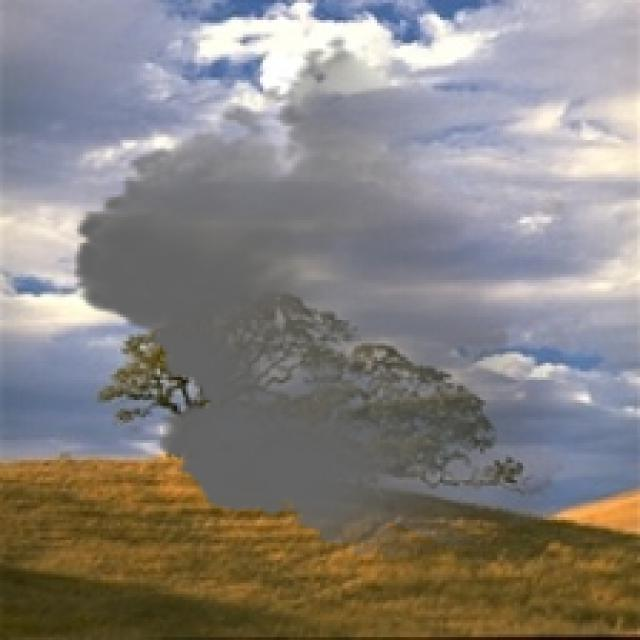Smoke: (54, 34, 592, 557)
